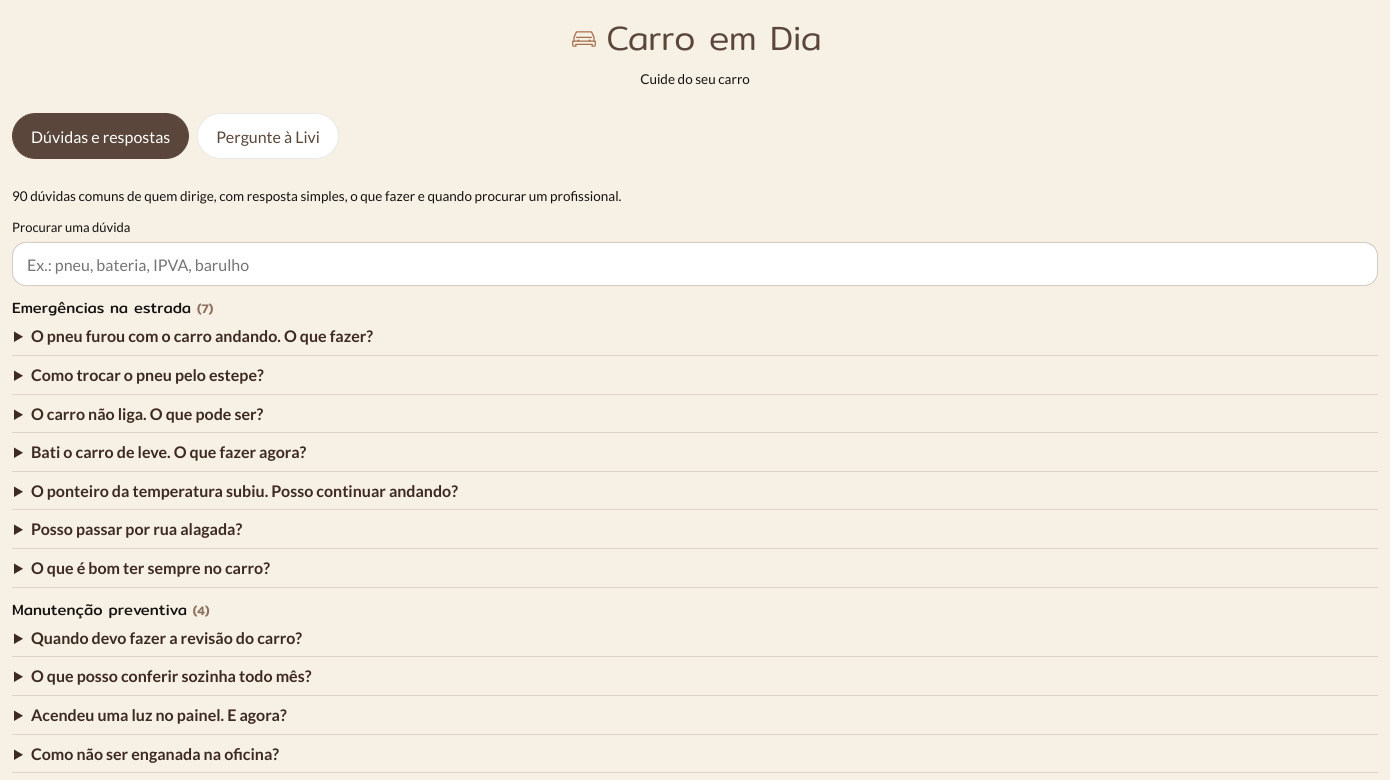
Test: CarroPage › quem liberou vê as dúvidas por assunto, abre a resposta e procura
Later steps or results of the test are not shown.
What coordinates should you click on to do the following:
click the heading "O pneu furou com o carro andando. O que fazer?"
I would click on:
 (202, 336)
Its box is [31, 326, 373, 345].
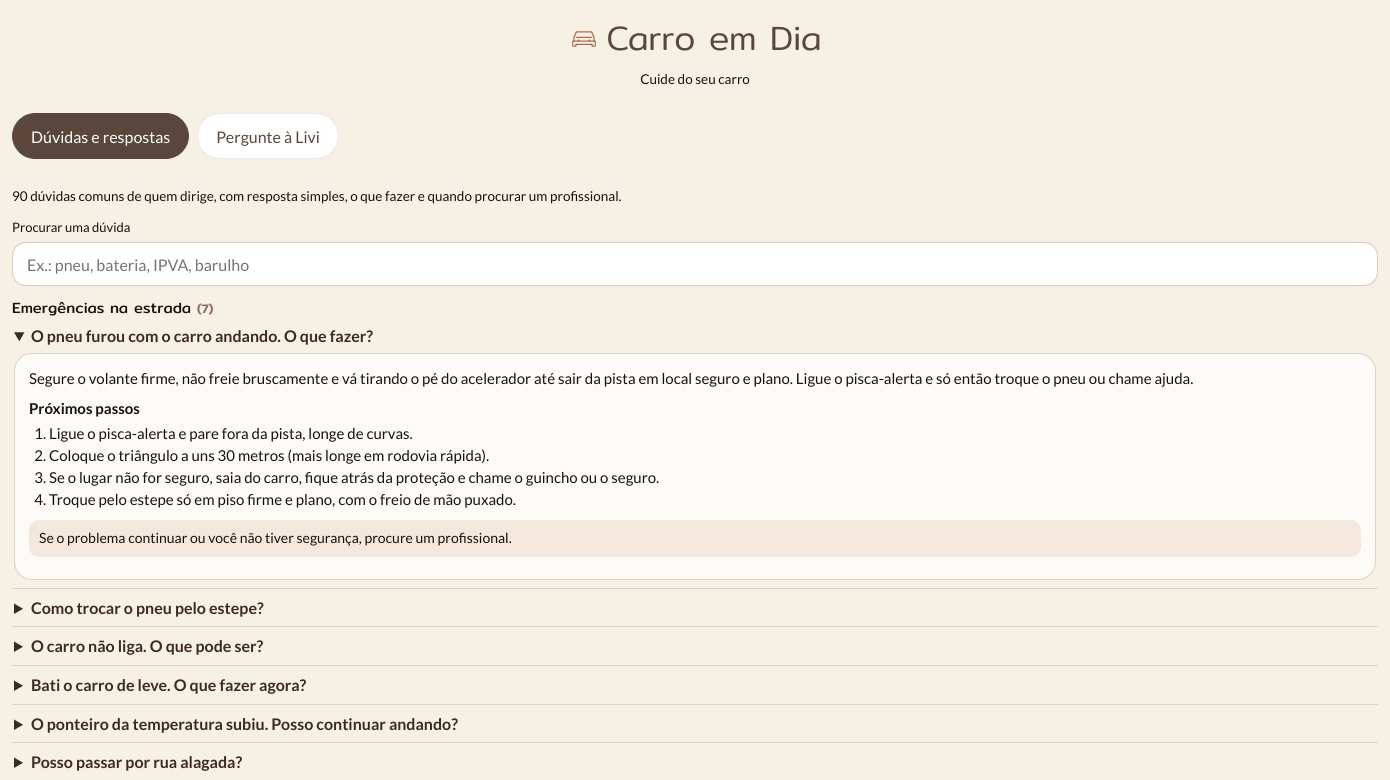
Expected: the text "Segure o volante firme" is shown, [29, 369, 1193, 387]
